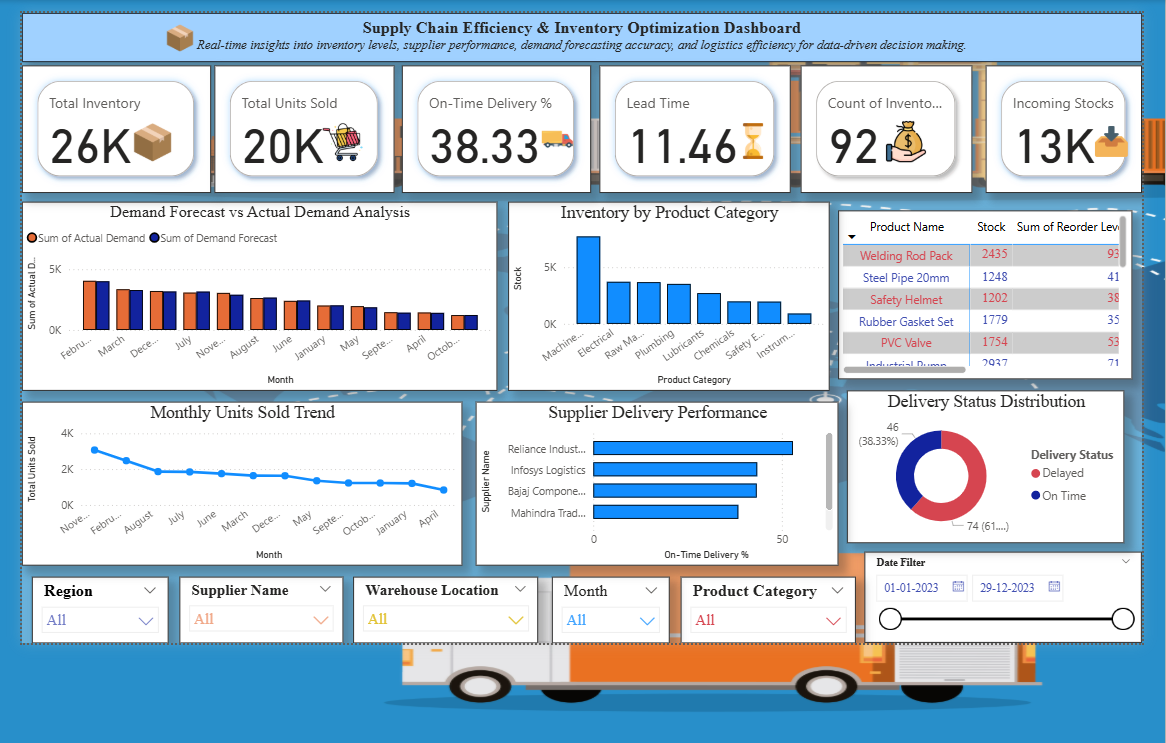

This screenshot's page, from the dashboard's own definition file:
{"tool":"powerbi","page":{"name":"DASHBOARD","canvas":[1280,720],"ordinal":0},"visuals":[{"type":"textbox","box":[0,0,1280,55.7],"z":0},{"type":"image","box":[68.6,8.6,224.3,40],"z":1},{"type":"slicer","fields":{"Values":["Supply Chain Data.Date"]},"box":[962.9,615.7,317.1,104.3],"z":2},{"type":"slicer","fields":{"Values":["Supply Chain Data.Region"]},"box":[11.4,644.3,155.7,75.7],"z":3},{"type":"slicer","fields":{"Values":["Supply Chain Data.Product Category"]},"box":[752.9,644.3,200,75.7],"z":4},{"type":"slicer","fields":{"Values":["Supply Chain Data.Supplier Name"]},"box":[180,644.3,187.1,75.7],"z":5},{"type":"slicer","fields":{"Values":["Supply Chain Data.Warehouse Location"]},"box":[378.6,644.3,211.4,75.7],"z":6},{"type":"slicer","fields":{"Values":["Supply Chain Data.Month"]},"box":[605.7,644.3,134.3,75.7],"z":8},{"type":"pivotTable","fields":{"Rows":["Supply Chain Data.Product Name"],"Values":["Supply Chain Data.Total Closing Stock","Sum(Supply Chain Data.Reorder Level)","Supply Chain Data.Average Lead Time","Min(Supply Chain Data.Delivery Status)"]},"box":[932.9,225.7,335.7,192.9],"z":9},{"type":"clusteredColumnChart","title":"Demand Forecast vs Actual Demand Analysis","fields":{"Category":["Supply Chain Data.Month"],"Y":["Sum(Supply Chain Data.Actual Demand)","Sum(Supply Chain Data.Demand Forecast)"]},"box":[0,215.7,542.9,215.7],"z":10},{"type":"lineChart","title":"Monthly Units Sold Trend","fields":{"Category":["Supply Chain Data.Month"],"Y":["Supply Chain Data.Total Units Sold"]},"box":[0,444.3,502.9,187.1],"z":11},{"type":"donutChart","title":"Delivery Status Distribution","fields":{"Category":["Supply Chain Data.Delivery Status"],"Y":["CountNonNull(Supply Chain Data.Delivery Status)"]},"box":[942.9,431.4,317.1,174.3],"z":12},{"type":"columnChart","title":"Inventory by Product Category","fields":{"Category":["Supply Chain Data.Product Category"],"Y":["Supply Chain Data.Stock"]},"box":[555.7,215.7,367.1,215.7],"z":13},{"type":"barChart","title":"Supplier Delivery Performance","fields":{"Y":["Supply Chain Data.On-Time Delivery %"],"Category":["Supply Chain Data.Supplier Name"]},"box":[518.6,444.3,414.3,187.1],"z":14},{"type":"cardVisual","fields":{"Data":["Supply Chain Data.Total Inventory"]},"box":[0,60,215.7,145.7],"z":15},{"type":"image","box":[35.7,121.4,227.1,52.9],"z":16},{"type":"cardVisual","fields":{"Data":["Supply Chain Data.Total Units Sold"]},"box":[220,60,205.7,145.7],"z":17},{"type":"image","box":[215.7,120,301.4,55.7],"z":18},{"type":"cardVisual","fields":{"Data":["Supply Chain Data.On-Time Delivery %"]},"box":[434.3,60,215.7,145.7],"z":19},{"type":"image","box":[542.9,121.4,138.6,45.7],"z":20},{"type":"cardVisual","fields":{"Data":["Supply Chain Data.Lead Time"]},"box":[660,60,218.6,145.7],"z":21},{"type":"image","box":[770,120,131.4,52.9],"z":22},{"type":"cardVisual","fields":{"Data":["Count(Supply Chain Data.Inventory Turnover Ratio)"]},"box":[890,60,195.7,145.7],"z":23},{"type":"image","box":[977.1,118.6,65.7,57.1],"z":24},{"type":"cardVisual","fields":{"Data":["Supply Chain Data.Total Incoming Stock"]},"box":[1101.4,60,178.6,145.7],"z":25},{"type":"image","box":[1221.4,120,47.1,52.9],"z":26}]}

Visuals, with their boxes in screenshot pixels (x1, y1, x2, y2):
textbox: <region>21, 12, 1130, 60</region>
image: <region>81, 20, 275, 54</region>
slicer - Supply Chain Data.Date: <region>856, 546, 1130, 636</region>
slicer - Supply Chain Data.Region: <region>31, 570, 166, 636</region>
slicer - Supply Chain Data.Product Category: <region>674, 570, 847, 636</region>
slicer - Supply Chain Data.Supplier Name: <region>177, 570, 339, 636</region>
slicer - Supply Chain Data.Warehouse Location: <region>349, 570, 532, 636</region>
slicer - Supply Chain Data.Month: <region>546, 570, 662, 636</region>
pivotTable - Supply Chain Data.Product Name x Supply Chain Data.Total Closing Stock: <region>830, 208, 1121, 375</region>
"Demand Forecast vs Actual Demand Analysis" clusteredColumnChart: <region>21, 199, 492, 386</region>
"Monthly Units Sold Trend" lineChart: <region>21, 397, 457, 559</region>
"Delivery Status Distribution" donutChart: <region>838, 386, 1113, 537</region>
"Inventory by Product Category" columnChart: <region>503, 199, 821, 386</region>
"Supplier Delivery Performance" barChart: <region>471, 397, 830, 559</region>
cardVisual - Supply Chain Data.Total Inventory: <region>21, 64, 208, 190</region>
image: <region>52, 117, 249, 163</region>
cardVisual - Supply Chain Data.Total Units Sold: <region>212, 64, 390, 190</region>
image: <region>208, 116, 469, 164</region>
cardVisual - Supply Chain Data.On-Time Delivery %: <region>398, 64, 584, 190</region>
image: <region>492, 117, 612, 157</region>
cardVisual - Supply Chain Data.Lead Time: <region>593, 64, 783, 190</region>
image: <region>688, 116, 802, 162</region>
cardVisual - Count(Supply Chain Data.Inventory Turnover Ratio): <region>792, 64, 962, 190</region>
image: <region>868, 115, 925, 164</region>
cardVisual - Supply Chain Data.Total Incoming Stock: <region>976, 64, 1130, 190</region>
image: <region>1080, 116, 1120, 162</region>
